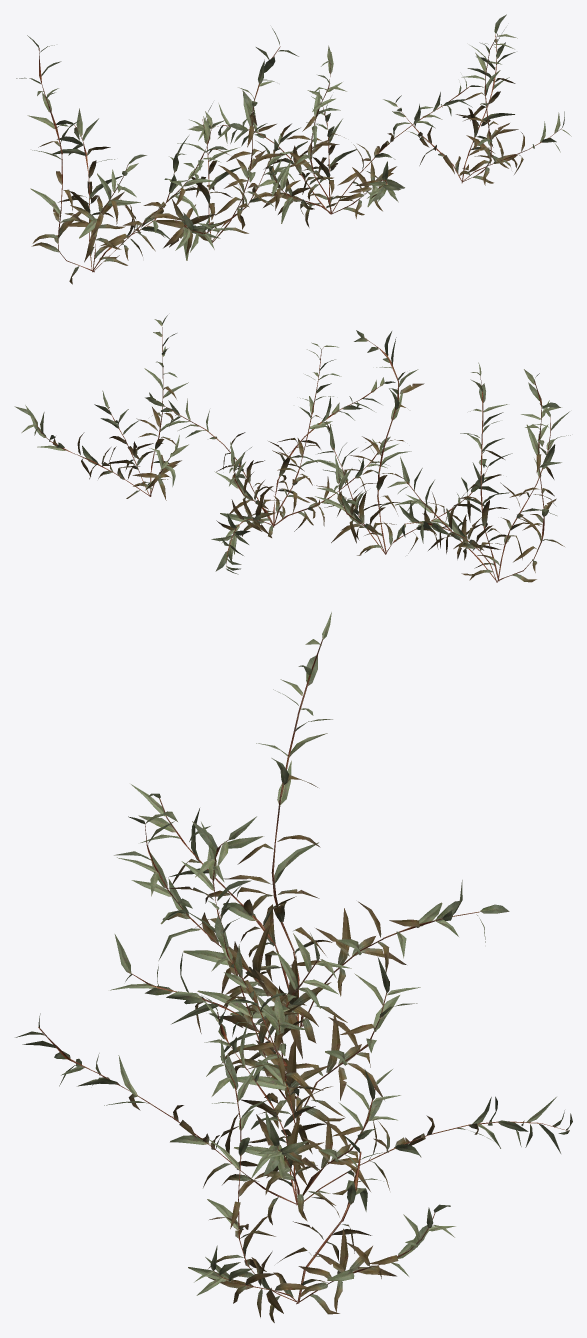
File: veg_shrub_02.glb
3 renders of one model, top to bottom at view 1: azimuth 30°, elevation 25°; view 2: azimuth 150°, elevation 25°; view 3: azimuth 270°, elevation 25°, orthographic. The views are drawn at different scales.
Parts seen in each view (by area): view 1: shrub_02_a, shrub_02_c, shrub_02_b, shrub_02_d; view 2: shrub_02_a, shrub_02_c, shrub_02_b, shrub_02_d; view 3: shrub_02_a, shrub_02_c, shrub_02_b, shrub_02_d.
Part boxes in pixels (box(x1,y1,x2,y2)): shrub_02_a: box(16, 35, 227, 284); shrub_02_c: box(188, 45, 483, 227); shrub_02_b: box(154, 28, 300, 260); shrub_02_d: box(383, 14, 571, 185); shrub_02_a: box(387, 362, 570, 582); shrub_02_c: box(145, 342, 398, 574); shrub_02_b: box(315, 330, 512, 555); shrub_02_d: box(14, 315, 190, 500); shrub_02_a: box(114, 612, 509, 1058); shrub_02_c: box(15, 901, 572, 1224); shrub_02_b: box(110, 816, 420, 1128); shrub_02_d: box(188, 1039, 455, 1322).
Bounding box in the file's own units: 7 × 3.05 × 4.11.
1 material, 1 textured.
